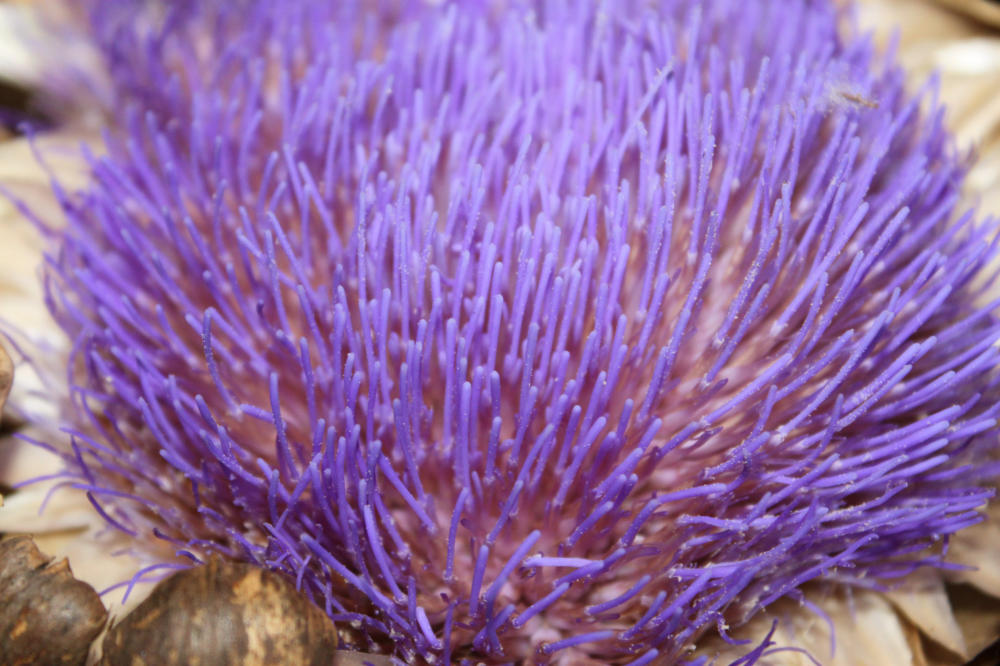thistle: (80, 5, 1000, 661)
